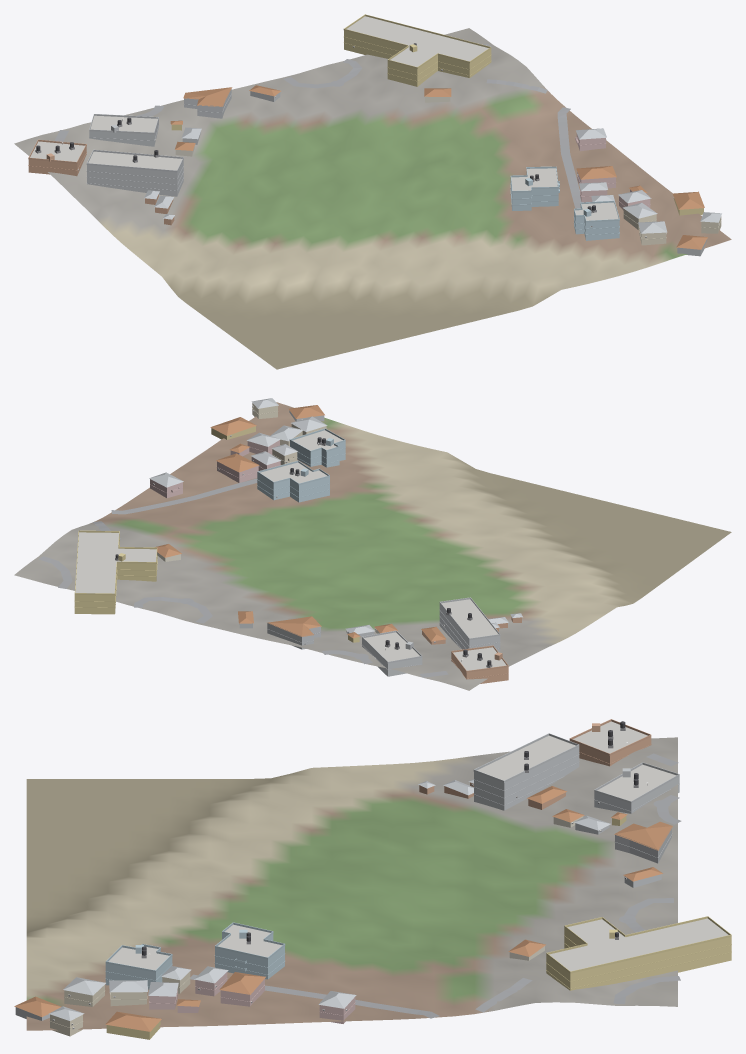
3 views of the same model, one above another, from view 1: azimuth 30°, elevation 25°; view 2: azimuth 150°, elevation 25°; view 3: azimuth 270°, elevation 25° (orthographic). The views are drawn at different scales.
Visible parts, largest first — view 1: Terrain-col, Buildings-col, Details, Roads-col; view 2: Terrain-col, Buildings-col, Details, Roads-col; view 3: Terrain-col, Buildings-col, Details, Roads-col.
Boxes of the visible parts, x1,y1,x2,y2 form: Terrain-col: [14, 28, 731, 369]; Buildings-col: [28, 16, 721, 256]; Details: [28, 14, 721, 239]; Roads-col: [54, 43, 581, 208]; Terrain-col: [14, 402, 731, 690]; Buildings-col: [74, 398, 522, 683]; Details: [74, 405, 508, 679]; Roads-col: [39, 478, 448, 677]; Terrain-col: [26, 737, 677, 1030]; Buildings-col: [14, 721, 731, 1039]; Details: [50, 719, 731, 1029]; Roads-col: [190, 753, 681, 1018].
Bounding box in the file's own units: 273 × 32.18 × 282.
